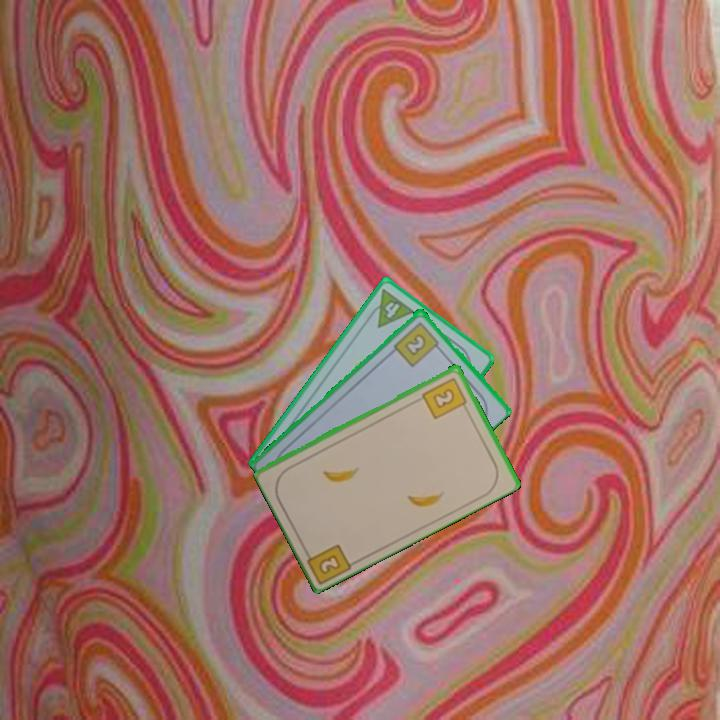2b: (390, 318, 444, 369), (419, 374, 471, 422), (300, 540, 355, 585)
4p: (363, 285, 418, 331)
